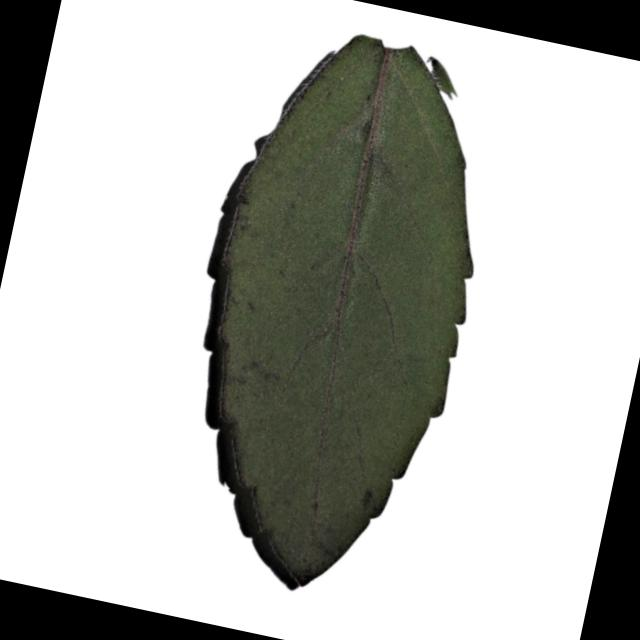tulsi: (140, 0, 526, 621)
